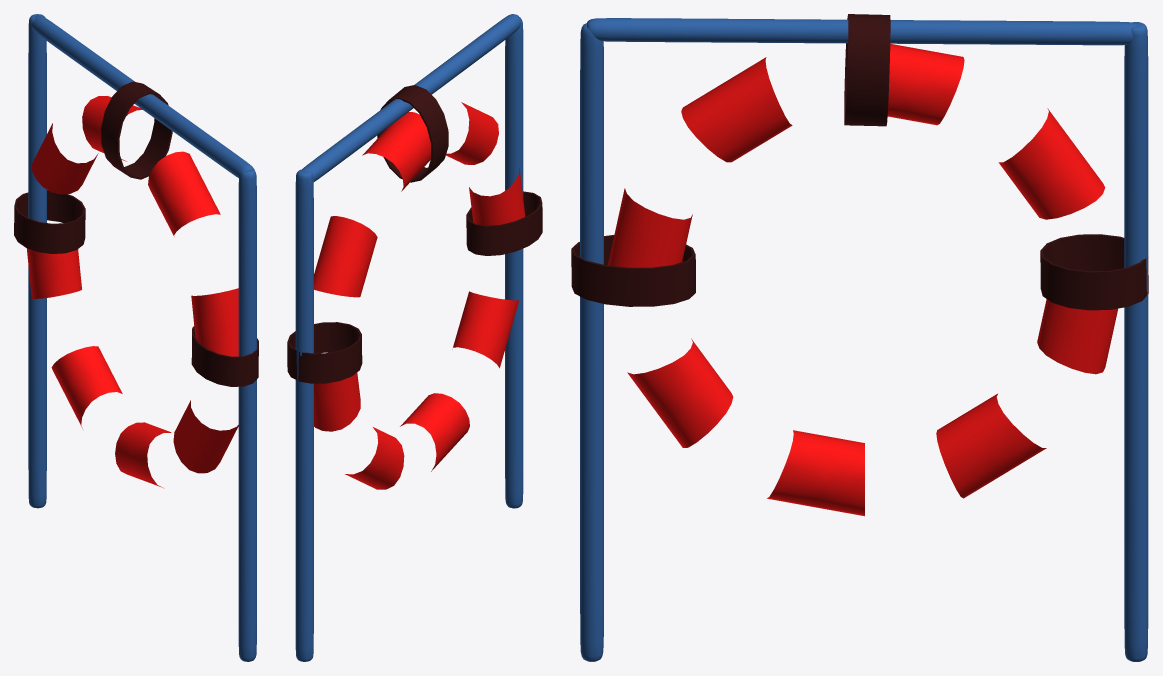
File: aro.gltf
3 renders of one model, left to right at view 1: azimuth 30°, elevation 25°; view 2: azimuth 150°, elevation 25°; view 3: azimuth 270°, elevation 25°, orthographic. The views are drawn at different scales.
Visible parts, largest first — view 1: Disc-Logo White, Cylinder (×4), Cylinder.1, Cylinder.4; view 2: Disc-Logo White, Cylinder (×4), Cylinder.1, Cylinder.4; view 3: Disc-Logo White, Cylinder (×4), Cylinder.1, Cylinder.4.
Part boxes in pixels (left/top/right/bottom): Disc-Logo White: left=27, top=96, right=238, bottom=488; Cylinder (×4): left=14, top=81, right=258, bottom=661; Cylinder.1: left=28, top=14, right=46, bottom=508; Cylinder.4: left=31, top=15, right=254, bottom=177; Disc-Logo White: left=314, top=102, right=525, bottom=489; Cylinder (×4): left=287, top=17, right=542, bottom=508; Cylinder.1: left=295, top=169, right=313, bottom=661; Cylinder.4: left=302, top=14, right=521, bottom=181; Disc-Logo White: left=608, top=44, right=1117, bottom=516; Cylinder (×4): left=571, top=14, right=1148, bottom=661; Cylinder.1: left=1124, top=22, right=1148, bottom=661; Cylinder.4: left=587, top=18, right=1136, bottom=45.
Bounding box in the file's own units: 3.39 × 26.95 × 21.99.
